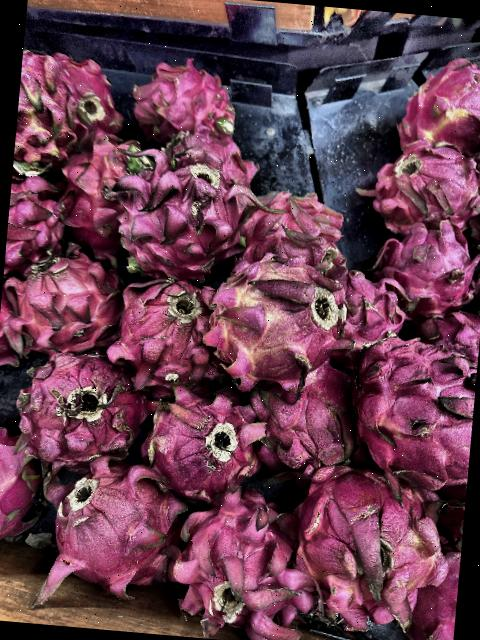buah-naga-belum-matang: (200, 248, 350, 397)
buah-naga-matang: (278, 452, 445, 618), (340, 326, 480, 494), (168, 474, 301, 636), (38, 454, 182, 590), (110, 140, 246, 276), (10, 343, 153, 468), (144, 378, 260, 494), (108, 272, 214, 388), (6, 245, 123, 350), (364, 129, 480, 233), (369, 211, 480, 316), (248, 367, 356, 469), (230, 185, 353, 273), (56, 128, 138, 250), (123, 52, 236, 136), (12, 45, 82, 178), (396, 50, 480, 150), (49, 54, 137, 134), (327, 268, 403, 356), (4, 172, 68, 270), (0, 418, 46, 552)
